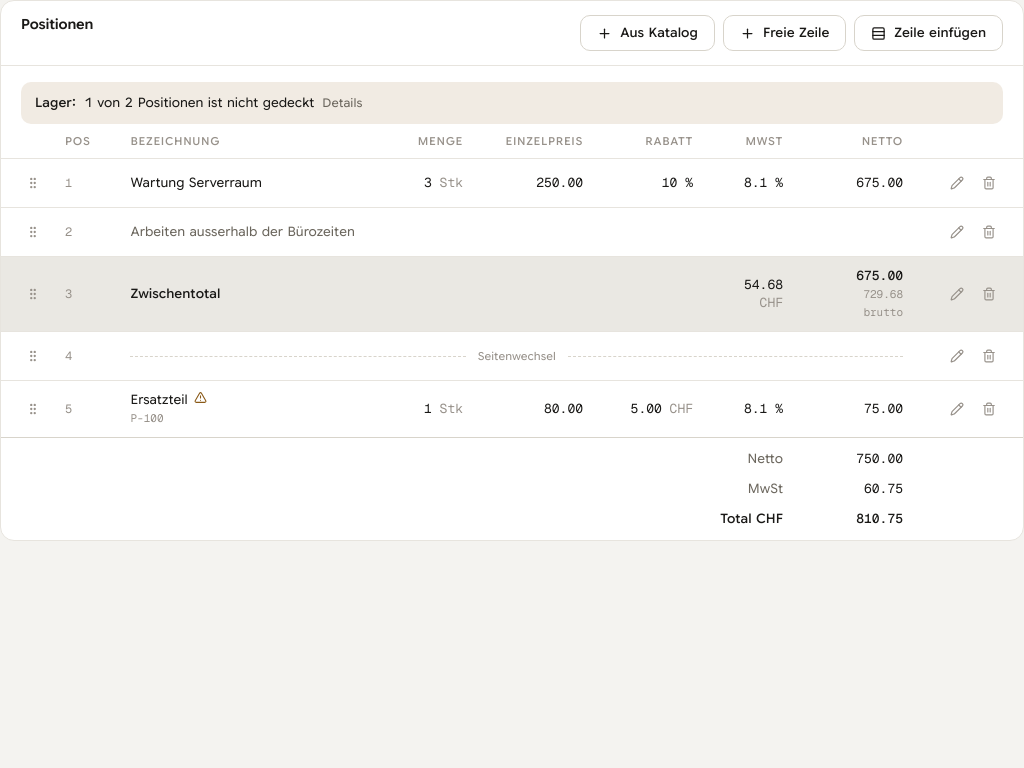
DocumentLines › documentLinesShowsTheShortfallStripTest
The width and height of the screenshot is (1024, 768).
Click the button "Lager: 1 von 2 Positionen ist nicht gedeckt Details" at (56, 102), box [35, 94, 989, 112]
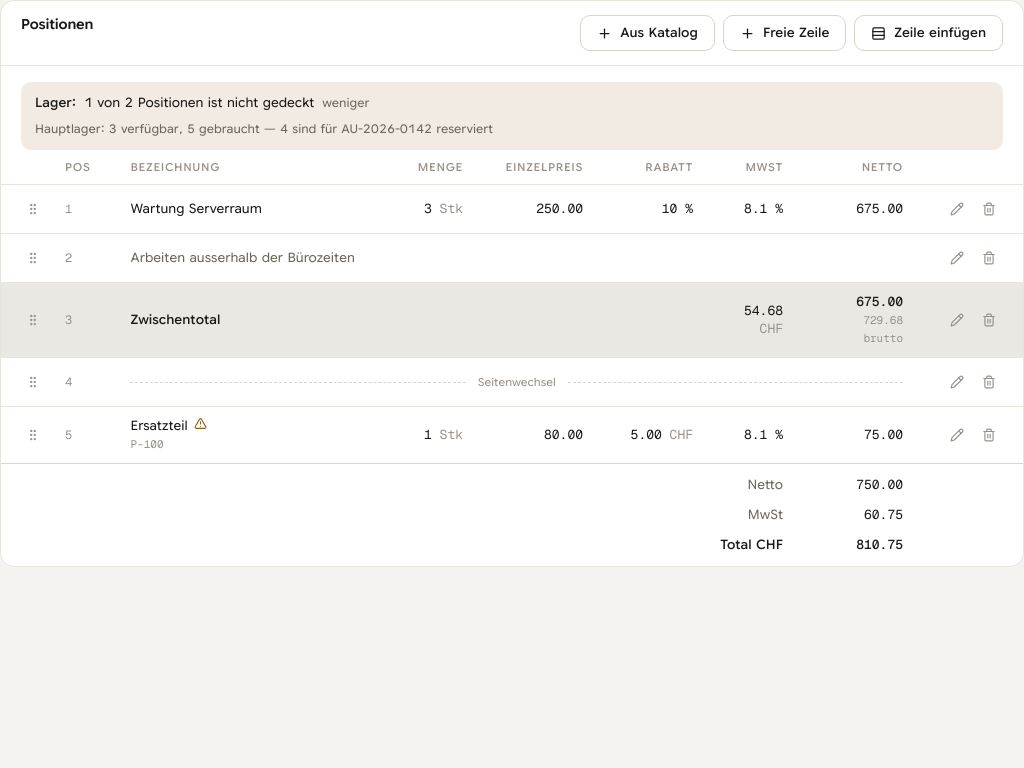
Expected: the element named "Hauptlager: 3 verfügbar, 5 gebraucht — 4 sind für AU-2026-01" is shown, [194, 417, 207, 430]
Expected: the button "Lager: 1 von 2 Positionen ist nicht gedeckt weniger" is expanded, [35, 94, 989, 112]
Expected: the text "Hauptlager: 3 verfügbar, 5 gebraucht — 4 sind für AU-2026-0142 reserviert" is shown, [35, 121, 493, 136]
